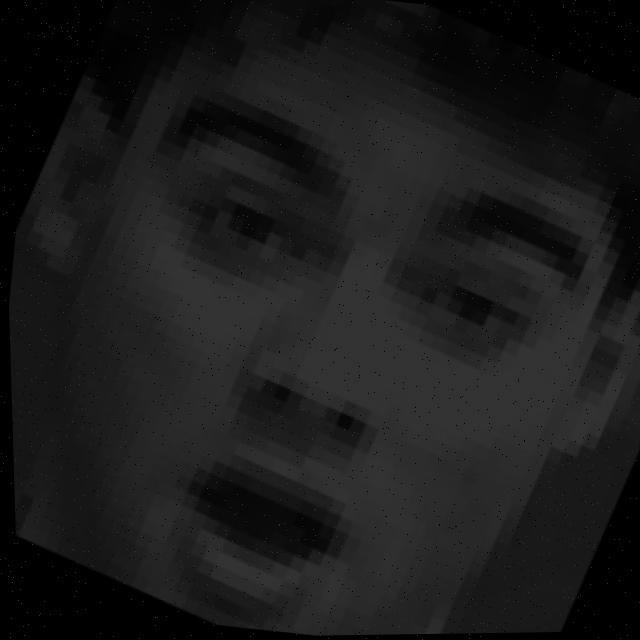Surprised: (101, 37, 607, 640)
